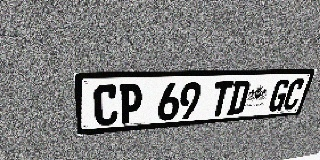6: (157, 82, 182, 121)
9: (177, 82, 203, 119)
C: (93, 84, 119, 126), (281, 79, 306, 110)
D: (226, 80, 252, 115)
G: (267, 79, 292, 112)
P: (119, 84, 143, 124)
T: (209, 81, 234, 117)
